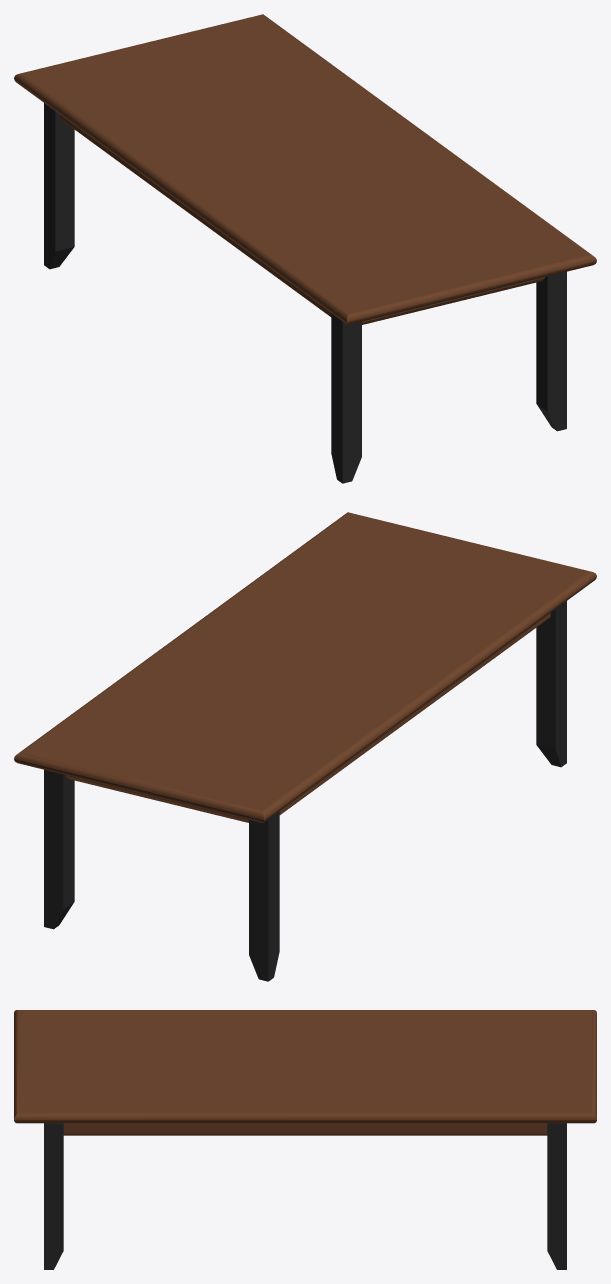
Rendered from GrandeTable_48.fbx.
The picture shows the model from 3 angles, top to bottom: view 1: azimuth 30°, elevation 25°; view 2: azimuth 150°, elevation 25°; view 3: azimuth 270°, elevation 25°; orthographic projection. The views are drawn at different scales.
Parts seen in each view (by area): view 1: pCube89, pCube90; view 2: pCube89, pCube90; view 3: pCube89, pCube90.
Part boxes in pixels (x1=…): pCube89: x1=14, y1=14, x2=596, y2=324; pCube90: x1=44, y1=103, x2=566, y2=483; pCube89: x1=14, y1=512, x2=596, y2=822; pCube90: x1=44, y1=601, x2=566, y2=981; pCube89: x1=14, y1=1010, x2=596, y2=1135; pCube90: x1=44, y1=1123, x2=566, y2=1269.
Size of the model in its own units: 56.89 by 39.8 by 131.
